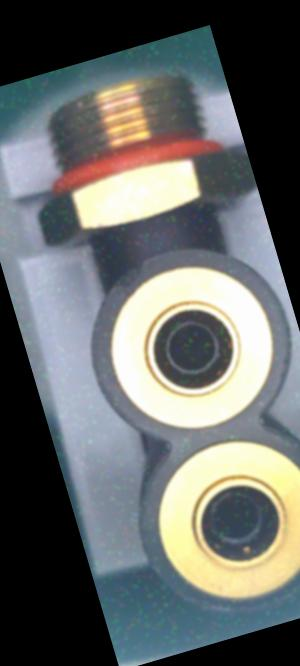bump: (105, 258, 152, 299)
